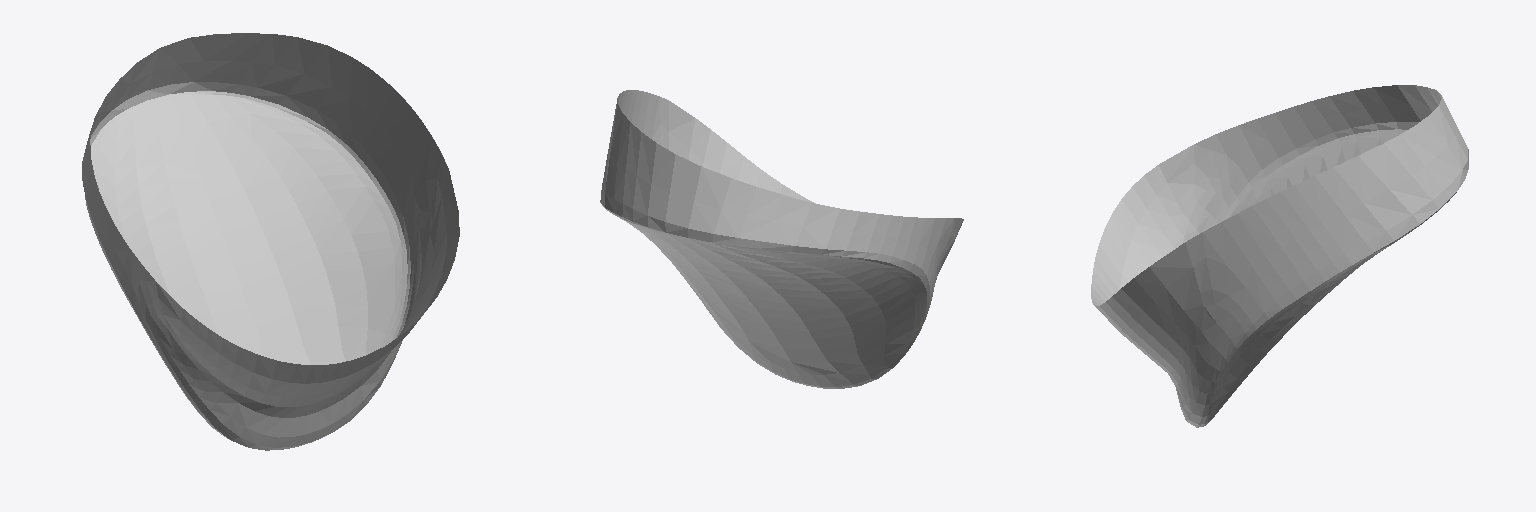
File: R_TriggerKey.obj
3 renders of one model, left to right at view 1: azimuth 30°, elevation 25°; view 2: azimuth 150°, elevation 25°; view 3: azimuth 270°, elevation 25°, orthographic.
Visible parts, largest first — view 1: __CM__TriggerKey Mesh; view 2: __CM__TriggerKey Mesh; view 3: __CM__TriggerKey Mesh.
Part boxes in pixels (bbox=[...]): __CM__TriggerKey Mesh: bbox=[82, 33, 459, 450]; __CM__TriggerKey Mesh: bbox=[600, 90, 963, 388]; __CM__TriggerKey Mesh: bbox=[1091, 85, 1468, 427].
Size of the model in its own units: 0.0282 by 0.0292 by 0.0314.